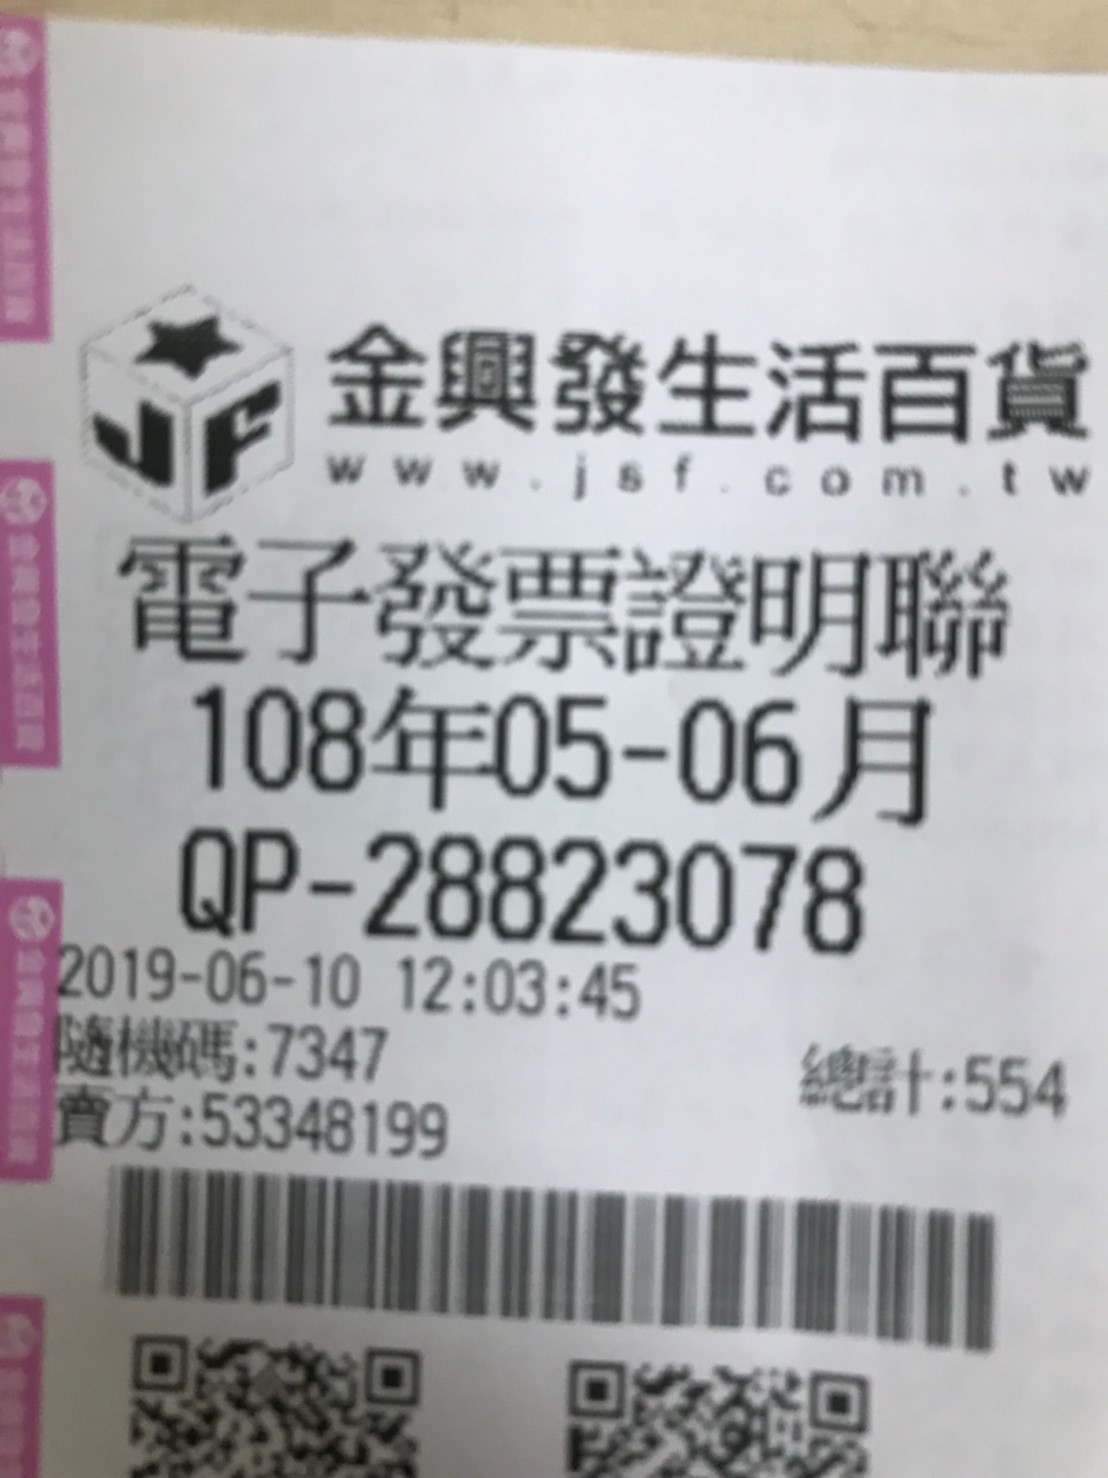Date_New: (190, 684, 933, 834)
Number_New: (358, 824, 871, 957)
